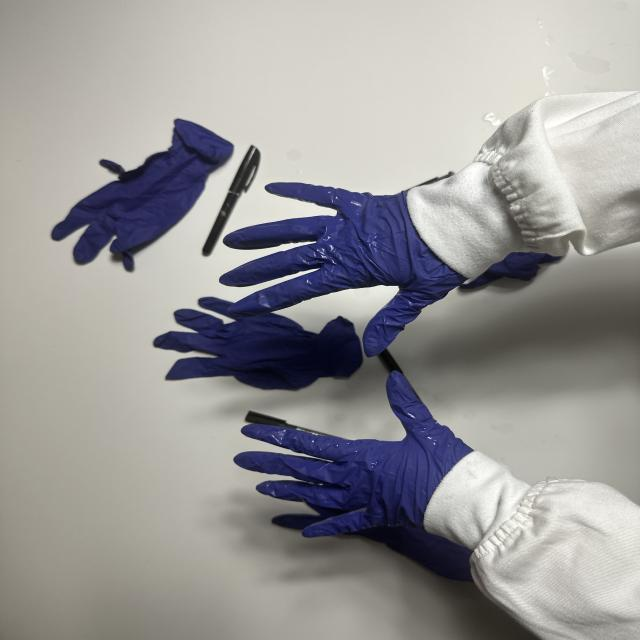gloves_contaminated: (220, 183, 467, 356), (234, 372, 472, 537)
